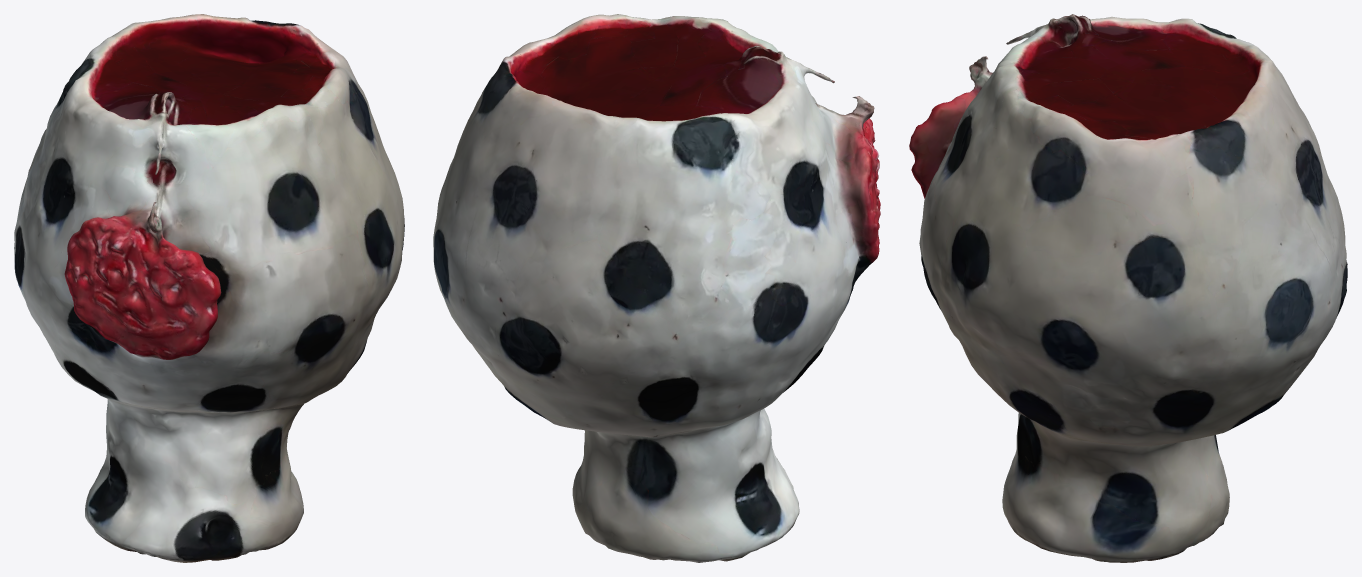
File: summer-turned-fifas.glb
3 renders of one model, left to right at view 1: azimuth 30°, elevation 25°; view 2: azimuth 150°, elevation 25°; view 3: azimuth 270°, elevation 25°, orthographic. The views are drawn at different scales.
Parts seen in each view (by area): view 1: submesh; view 2: submesh; view 3: submesh.
Part boxes in pixels (left/top/right/bottom): submesh: left=14, top=14, right=404, bottom=562; submesh: left=433, top=14, right=880, bottom=562; submesh: left=909, top=14, right=1347, bottom=562.
Bounding box in the file's own units: 0.175 × 0.2152 × 0.1779.
Materials: 1 (1 with a texture image).
